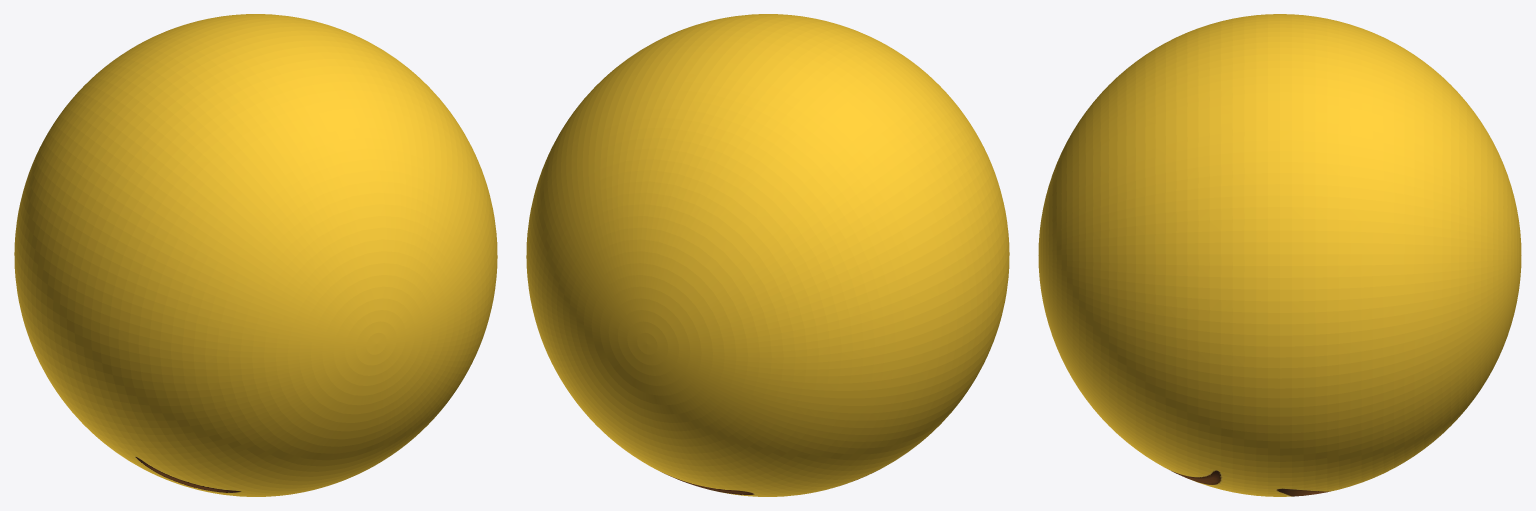
The model's file is wrs_fcsc_emoticon_sad.dae.
The picture shows the model from 3 angles, left to right: view 1: azimuth 30°, elevation 25°; view 2: azimuth 150°, elevation 25°; view 3: azimuth 270°, elevation 25°; orthographic projection.
Visible parts, largest first — view 1: Sphere; view 2: Sphere; view 3: Sphere.
Boxes of the visible parts, <box> form: Sphere: <box>14,14,497,496</box>; Sphere: <box>526,14,1009,496</box>; Sphere: <box>1038,14,1521,496</box>.
Bounding box in the file's own units: 0.2 × 0.2 × 0.2.
Materials: 1 (1 with a texture image).
